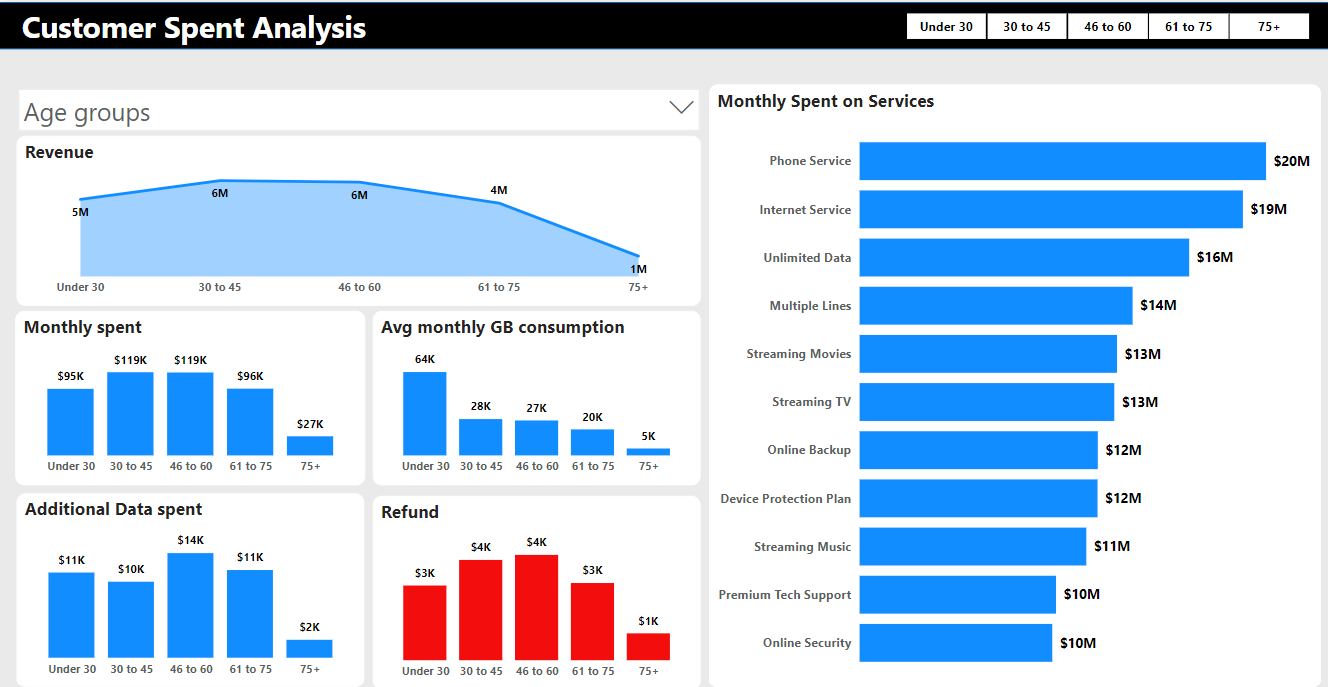

The page's visual inventory and layout, read from the dashboard file:
{"tool":"powerbi","page":{"name":"Spent Analysis","canvas":[1440,753],"ordinal":2},"visuals":[{"type":"shape","box":[0,0,1440.3,51],"z":0},{"type":"textbox","box":[10.9,0,746.2,70.6],"z":1000},{"type":"clusteredColumnChart","title":"Avg monthly GB consumption","fields":{"Category":["Demographics_Dim.Age groups"],"Y":["Sum(Telco_Churn_fact.Avg Monthly GB Download)"]},"box":[404.3,334.3,354.3,188.6],"z":2000},{"type":"slicer","title":"Avg Monthly Spend by","fields":{"Values":["Parameter.Parameter"]},"box":[11,84,756,56],"z":3000},{"type":"clusteredColumnChart","title":"Monthly spent","fields":{"Category":["Demographics_Dim.Age groups"],"Y":["Sum(Telco_Churn_fact.Monthly Charge)"]},"box":[17.1,334.3,378.6,188.6],"z":4000},{"type":"clusteredBarChart","title":"Monthly Spent on Services","fields":{"Category":["Services_Dim_Transpose.Attribute"],"Y":["Sum(Telco_Churn_fact.Monthly Charge)"]},"box":[767.1,88.6,661.4,652.9],"z":5000},{"type":"slicer","fields":{"Values":["Demographics_Dim.Age (groups)"]},"box":[955.1,4.8,484.9,41.6],"z":6000},{"type":"clusteredColumnChart","title":"Additional Data spent","fields":{"Category":["Demographics_Dim.Age groups"],"Y":["Sum(Telco_Churn_fact.Total Extra Data Charges)"]},"box":[18.8,531.2,376.2,210],"z":7000},{"type":"clusteredColumnChart","title":"Refund","fields":{"Category":["Demographics_Dim.Age groups"],"Y":["Sum(Telco_Churn_fact.Total Refunds)"]},"box":[404,533.1,354.3,210],"z":8000},{"type":"areaChart","title":"Revenue","fields":{"Category":["Demographics_Dim.Age groups"],"Y":["Sum(Telco_Churn_fact.Total Revenue)"]},"box":[18.6,144.3,740,184.3],"z":9000},{"type":"clusteredBarChart","title":"Monthly Spent on Services","fields":{"Category":["Services_Dim_Transpose.Attribute"],"Y":["Sum(Services_Dim_Transpose.Total Revenue)"]},"box":[767.1,88.6,661.4,652.9],"z":10000}]}

Visuals, with their boxes in screenshot pixels (x1, y1, x2, y2), scaled from the page's 1440x753 canvas onto the 1328x687 screenshot:
shape: x1=0 y1=0 x2=1327 y2=47
textbox: x1=10 y1=0 x2=698 y2=64
"Avg monthly GB consumption" clusteredColumnChart: x1=373 y1=305 x2=700 y2=477
"Avg Monthly Spend by" slicer: x1=10 y1=77 x2=707 y2=128
"Monthly spent" clusteredColumnChart: x1=16 y1=305 x2=365 y2=477
"Monthly Spent on Services" clusteredBarChart: x1=707 y1=81 x2=1317 y2=677
slicer - Demographics_Dim.Age (groups): x1=881 y1=4 x2=1327 y2=42
"Additional Data spent" clusteredColumnChart: x1=17 y1=485 x2=364 y2=676
"Refund" clusteredColumnChart: x1=373 y1=486 x2=699 y2=678
"Revenue" areaChart: x1=17 y1=132 x2=700 y2=300
"Monthly Spent on Services" clusteredBarChart: x1=707 y1=81 x2=1317 y2=677
